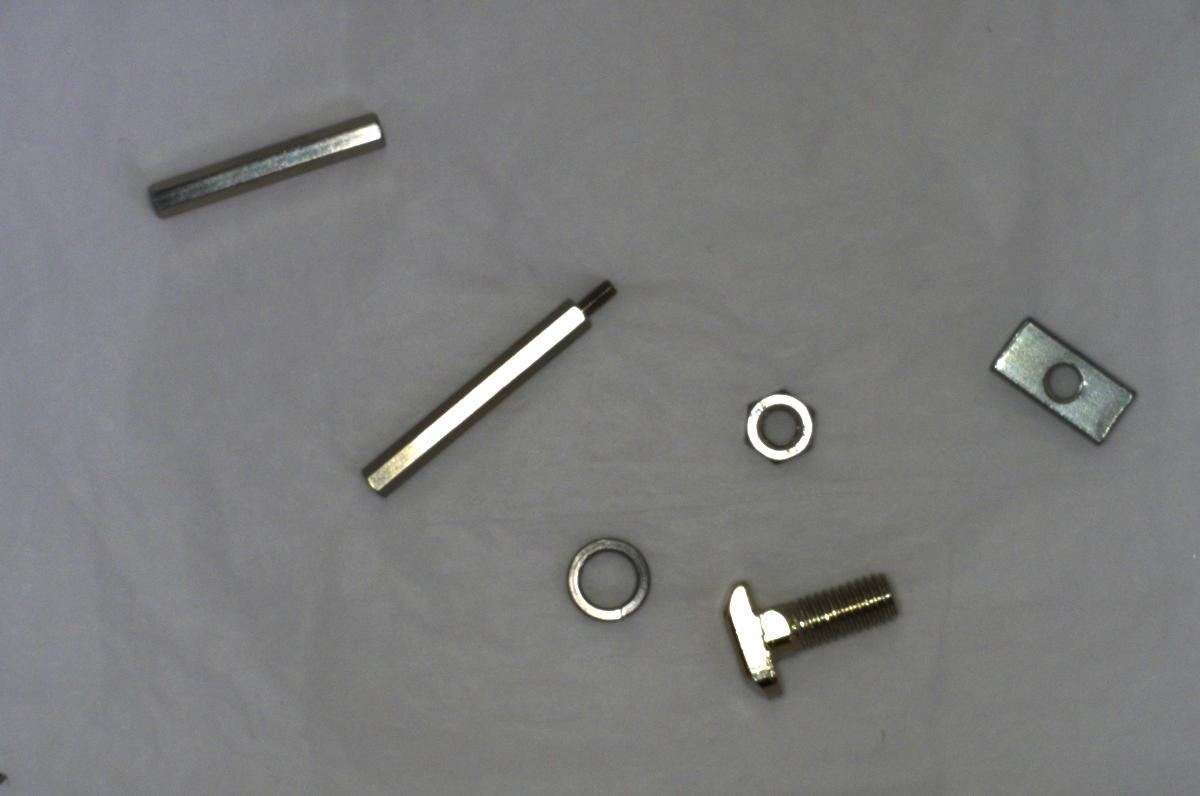Double hexagonal column: (133, 101, 395, 227)
Hexagon nut: (728, 378, 825, 480)
Hexagonal steel column: (359, 267, 619, 503)
Rectangular nut: (978, 305, 1150, 453)
Spring washer: (561, 529, 662, 625)
T-shaped screw: (710, 566, 908, 707)
